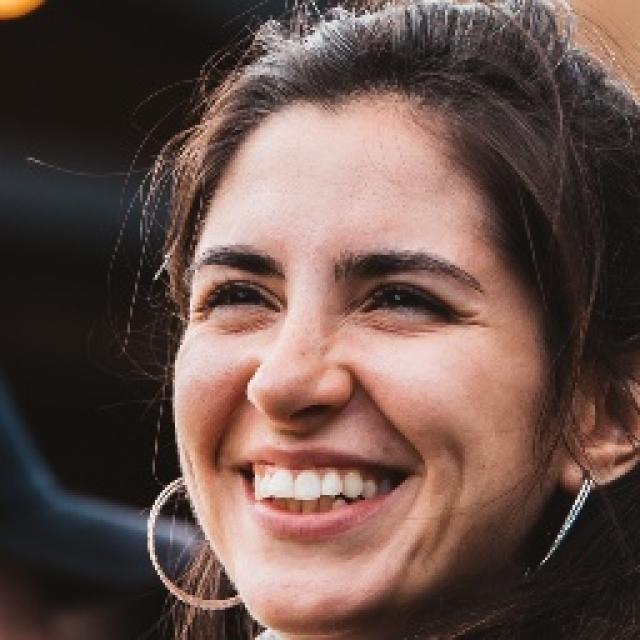earlobe: (558, 445, 602, 493)
eye: (361, 284, 445, 319), (201, 282, 275, 314)
nose: (241, 392, 359, 476)
wholeear: (560, 328, 640, 492)
